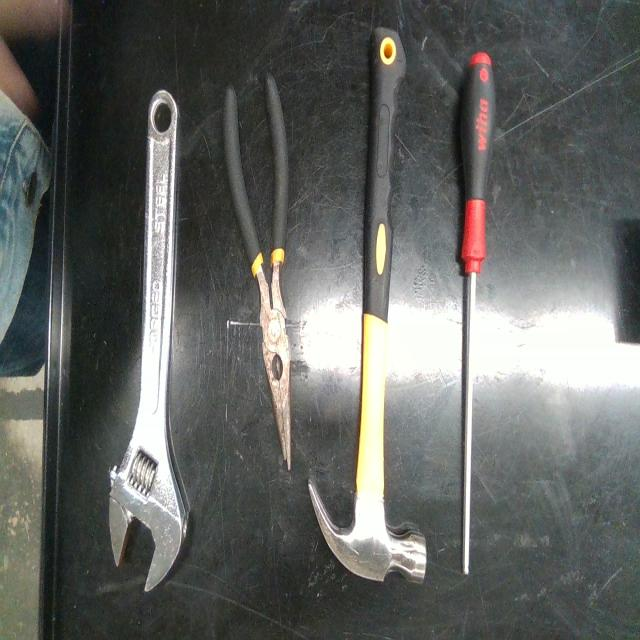Screwdriver: (461, 51, 495, 574)
